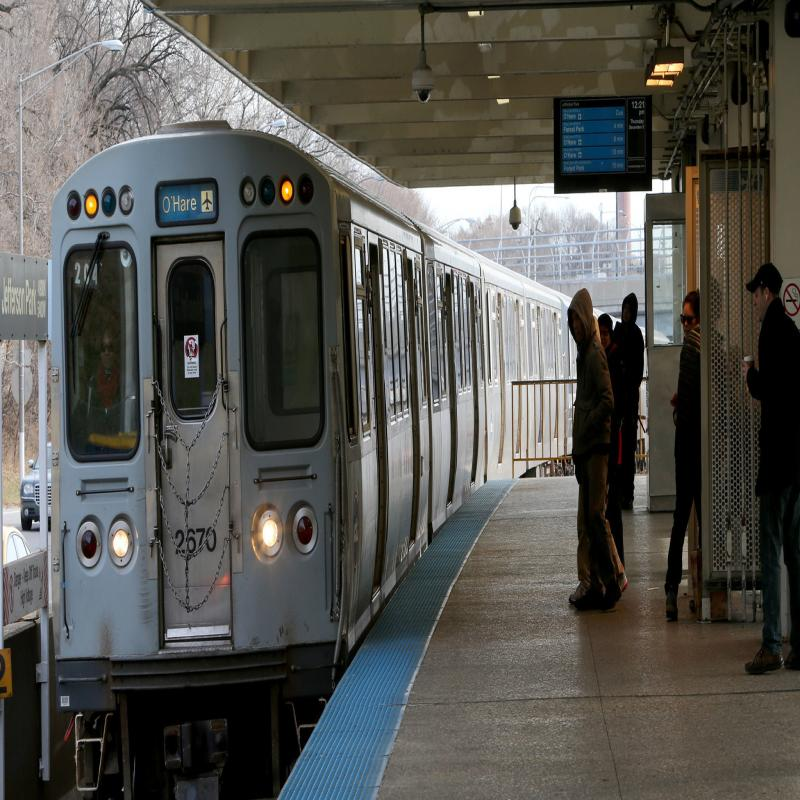train: (32, 67, 420, 663)
